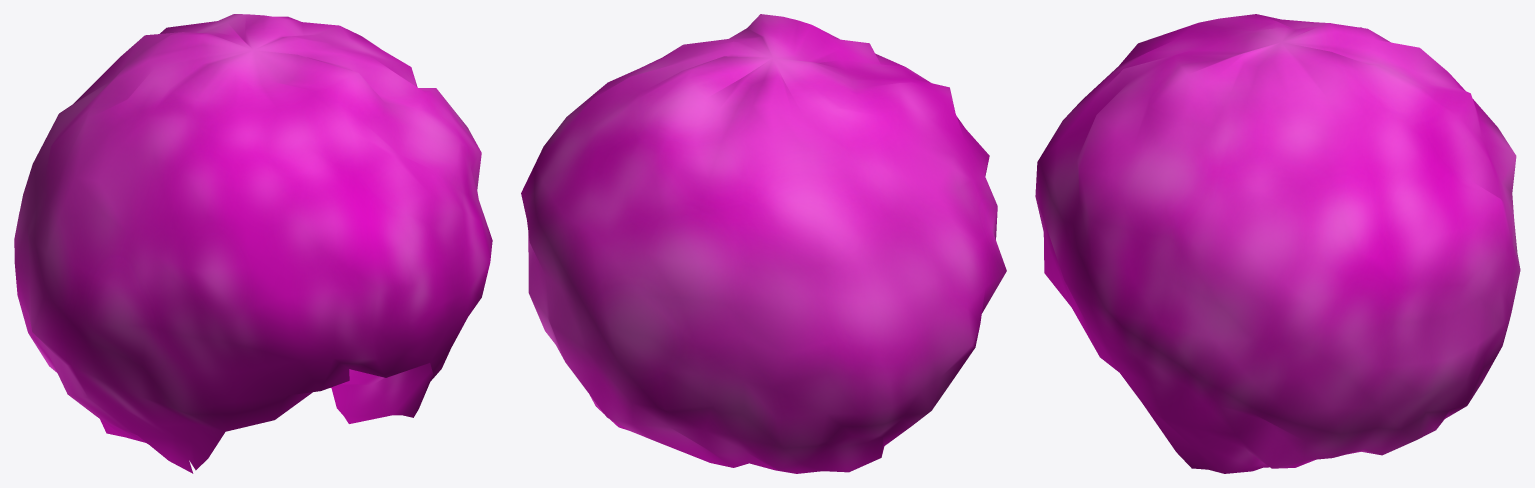
3 renders of one model, left to right at view 1: azimuth 30°, elevation 25°; view 2: azimuth 150°, elevation 25°; view 3: azimuth 270°, elevation 25°, orthographic. The views are drawn at different scales.
Visible parts, largest first — view 1: hg_003_00_model; view 2: hg_003_00_model; view 3: hg_003_00_model.
Part boxes in pixels (x1,y1,x2,y2): hg_003_00_model: (14, 14, 492, 473); hg_003_00_model: (521, 14, 1006, 473); hg_003_00_model: (1035, 14, 1520, 473).
Bounding box in the file's own units: 82.38 × 72.67 × 79.57.
Materials: 1 (1 with a texture image).
